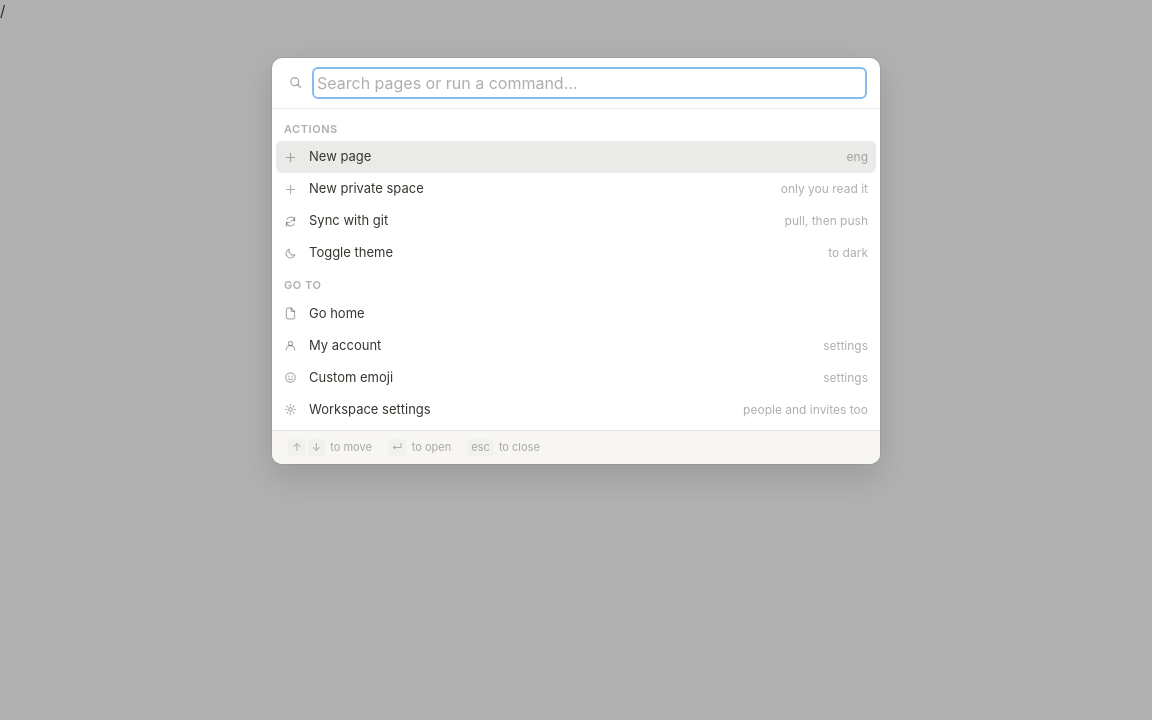
it: CommandPalette › opens the highlighted page on Enter and closes itself
In the dropdown: (590, 83) [315,70,864,96], type "runbook"
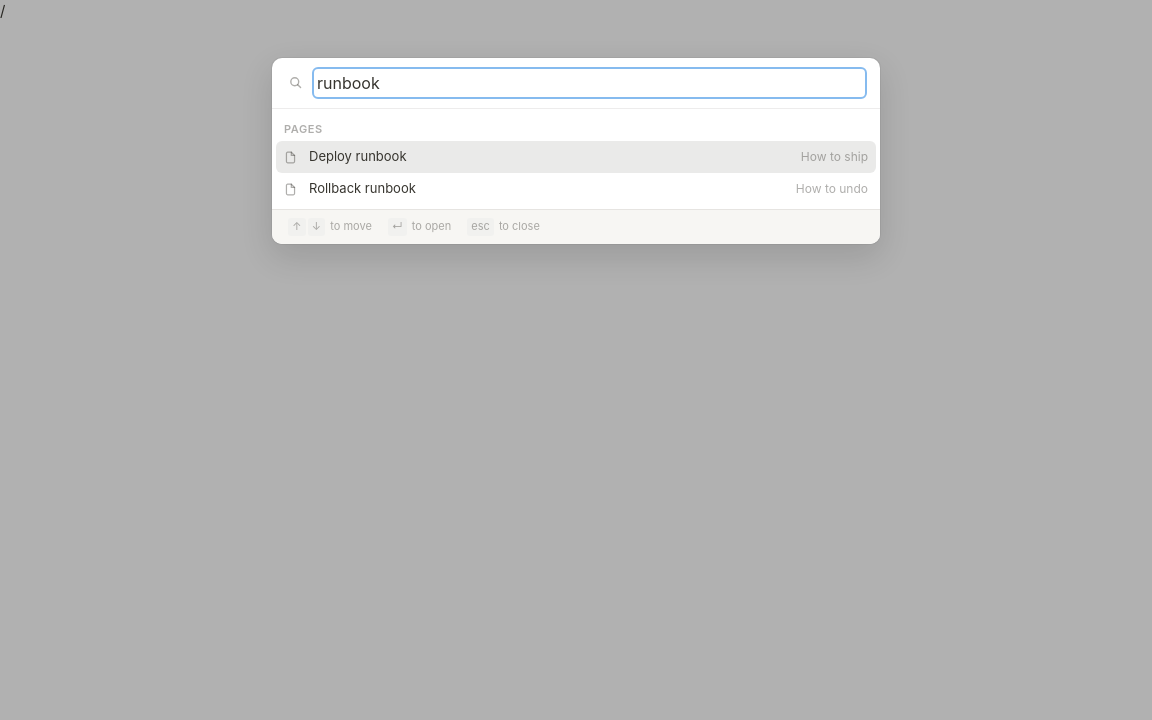
Press Arrowdown Enter
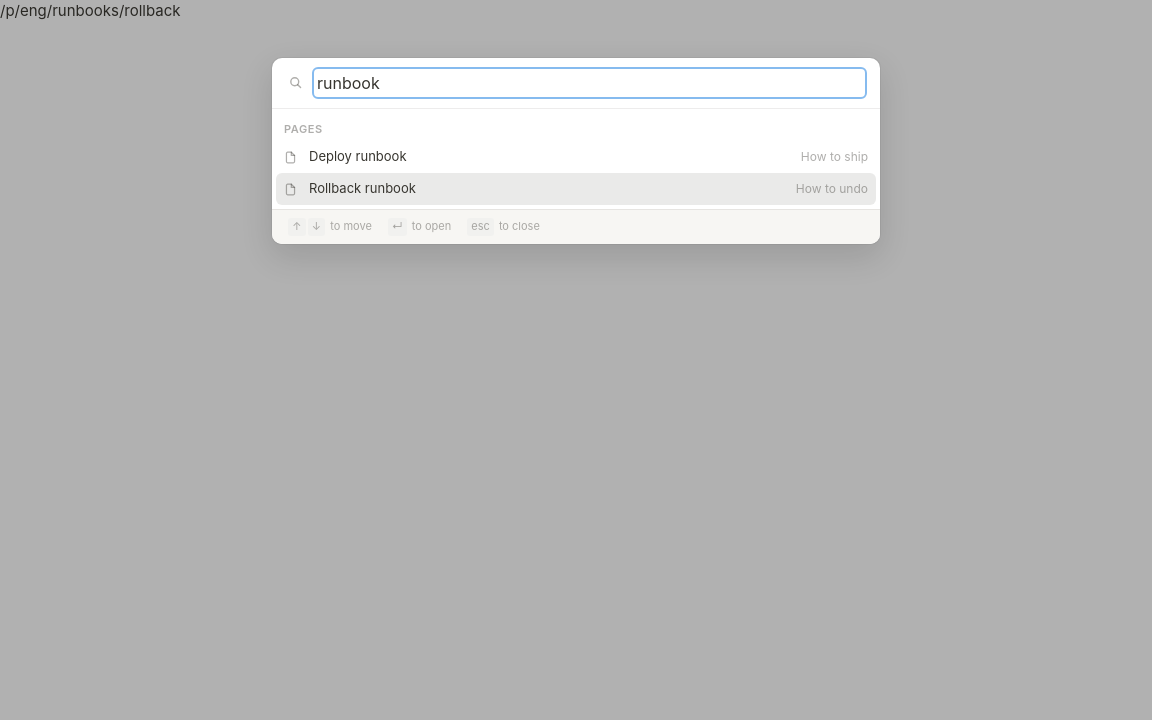
Check: the text with test id "location" reads "/p/eng/runbooks/rollback", box [0,1,180,20]
